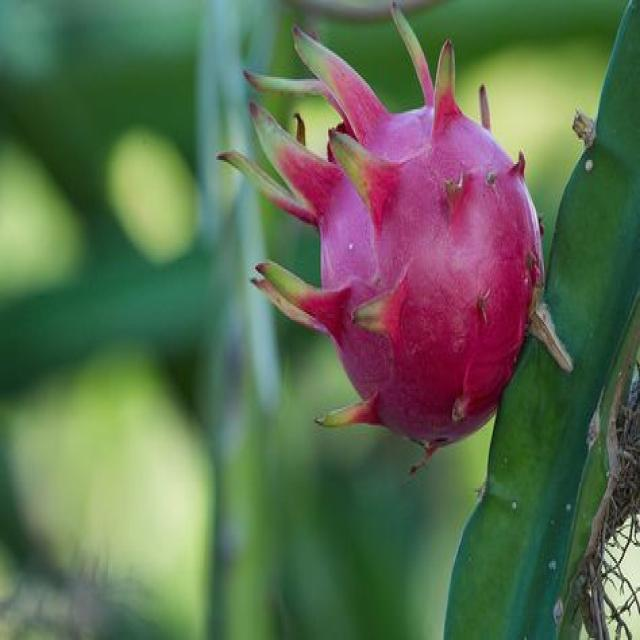Thanh Long: (225, 0, 557, 464)
